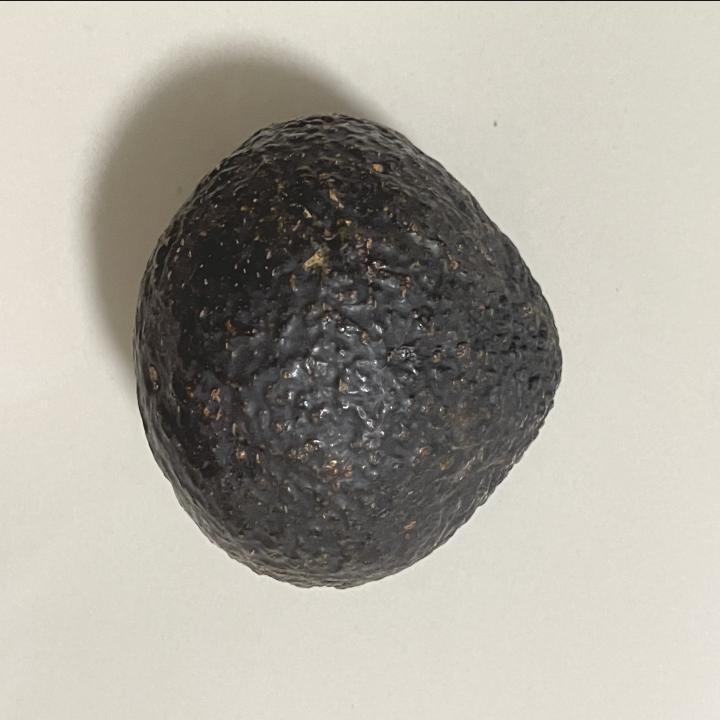Level2: (127, 104, 570, 594)
